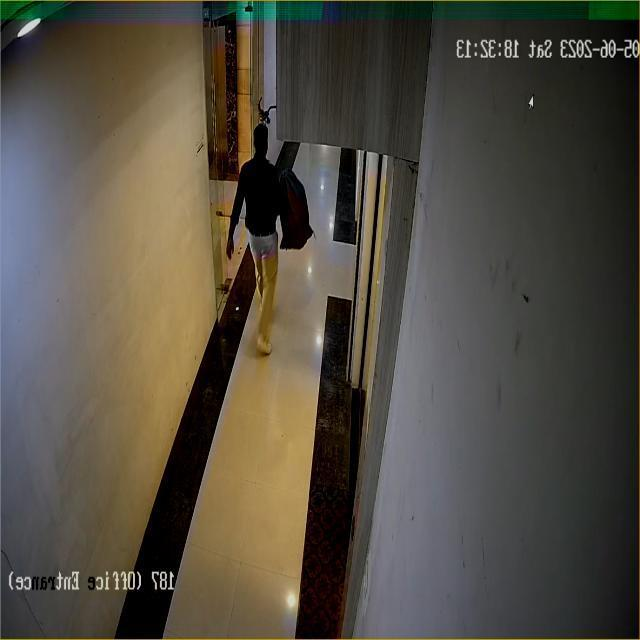gunny_bag: (274, 166, 316, 255)
